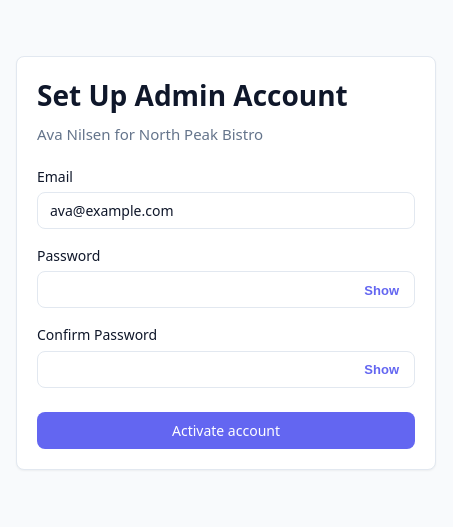
AdminSetupView › shows safe frontend errors from setup completion
Check: the field showing "ava@example.com" is shown, box x1=37 y1=192 x2=415 y2=229
In the password field labelled "Password": {"x": 226, "y": 290} x1=37 y1=271 x2=415 y2=308, type "superSecret123"
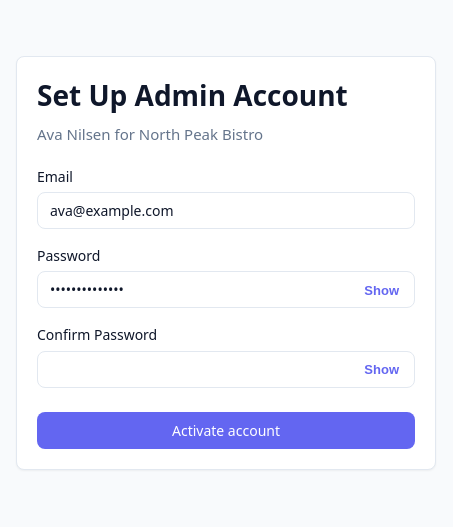
In the password field labelled "Confirm Password": {"x": 226, "y": 369} x1=37 y1=351 x2=415 y2=388, type "superSecret123"
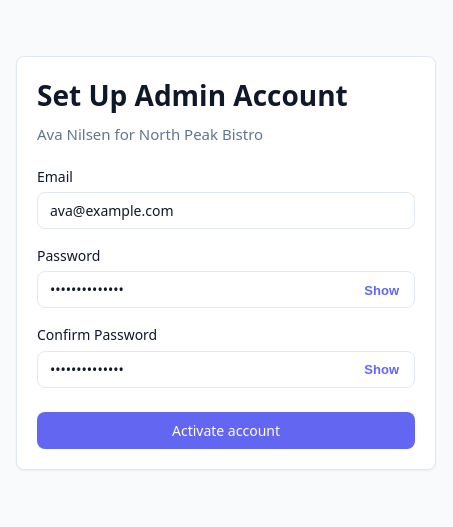
Click the button "Activate account": {"x": 226, "y": 430} x1=37 y1=412 x2=415 y2=449
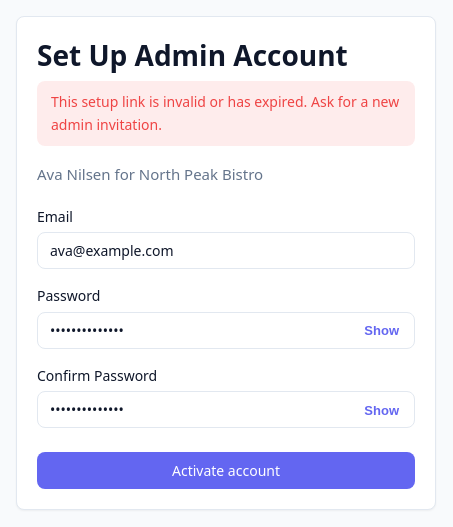
Check: the text "This setup link is invalid or has expired. Ask for a new admin invitation." is shown, box x1=37 y1=81 x2=415 y2=146
